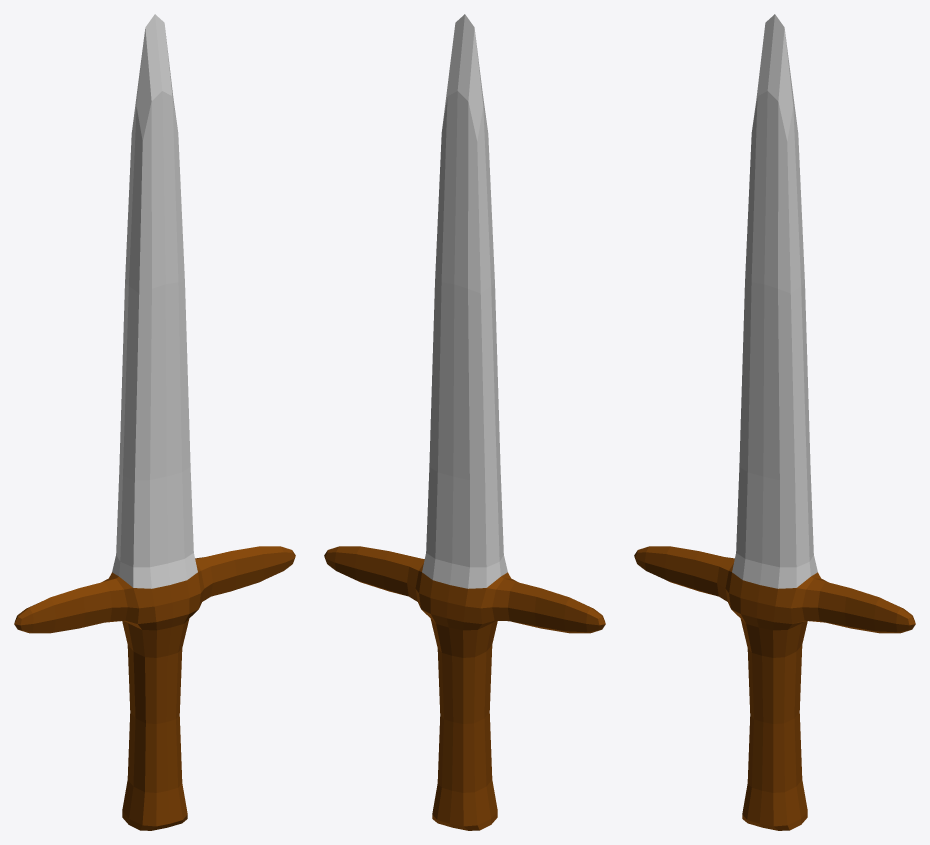
File: sword.fbx
3 renders of one model, left to right at view 1: azimuth 30°, elevation 25°; view 2: azimuth 150°, elevation 25°; view 3: azimuth 330°, elevation 25°, orthographic.
Visible parts, largest first — view 1: Cube; view 2: Cube; view 3: Cube.
Boxes of the visible parts, x1,y1,x2,y2 form: Cube: [14, 14, 295, 830]; Cube: [324, 14, 605, 830]; Cube: [634, 14, 915, 830].
Size of the model in its own units: 8.5 by 23.22 by 1.91.
1 material, 1 textured.
